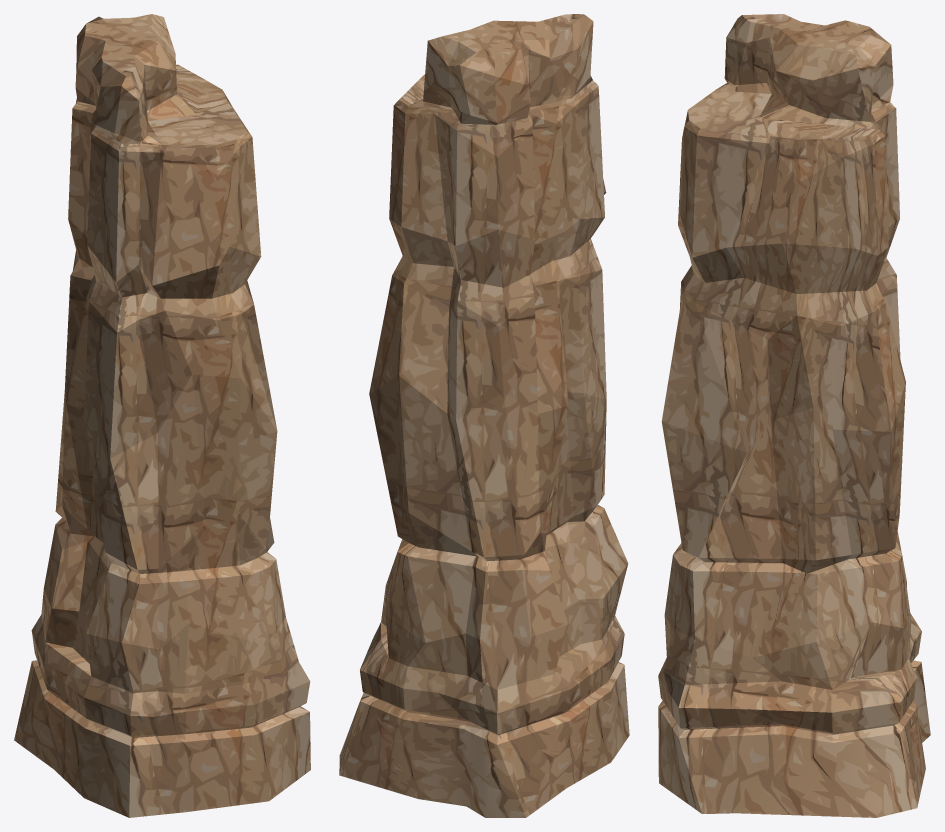
The model's file is Rock.FBX.
3 renders of one model, left to right at view 1: azimuth 30°, elevation 25°; view 2: azimuth 150°, elevation 25°; view 3: azimuth 270°, elevation 25°, orthographic. The views are drawn at different scales.
Parts seen in each view (by area): view 1: Rock; view 2: Rock; view 3: Rock.
Part boxes in pixels (x1,y1,x2,y2): Rock: (14,14,310,817); Rock: (339,14,629,817); Rock: (658,14,930,817).
Size of the model in its own units: 165 by 547 by 188.
